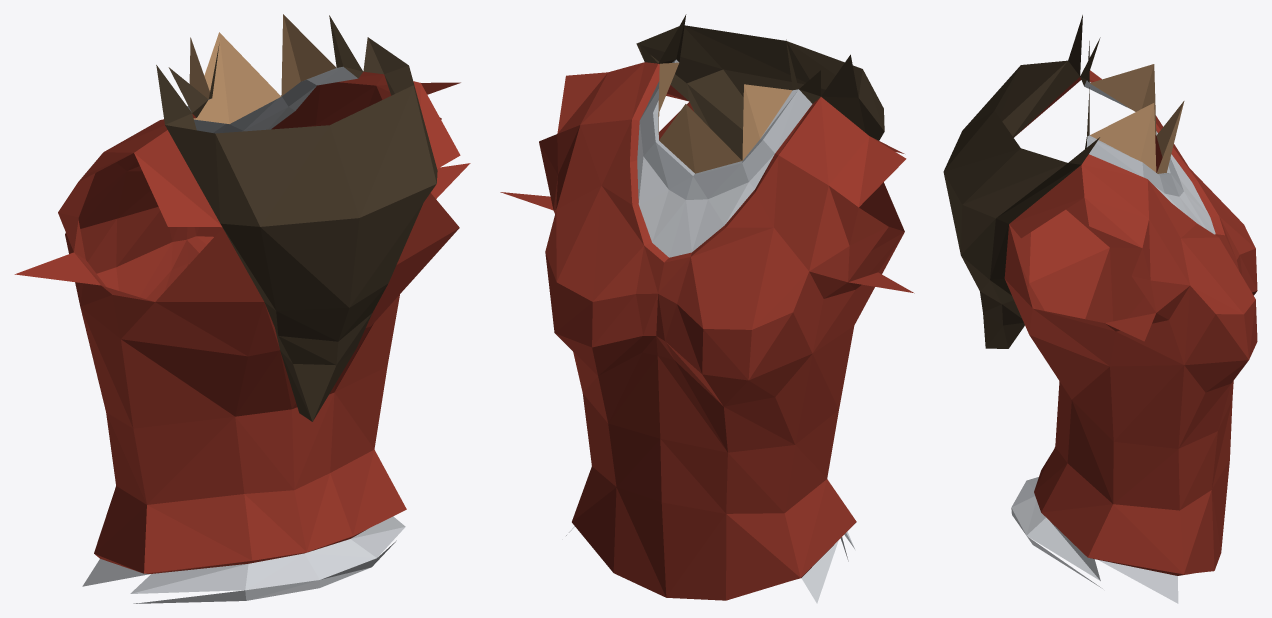
Rendered from Daughter_01_Torso_0_03_B.obj.
3 views of the same model, side by side, from view 1: azimuth 30°, elevation 25°; view 2: azimuth 150°, elevation 25°; view 3: azimuth 270°, elevation 25° (orthographic). The views are drawn at different scales.
Visible parts, largest first — view 1: Daughter_01_Torso_0_03_B; view 2: Daughter_01_Torso_0_03_B; view 3: Daughter_01_Torso_0_03_B.
Boxes of the visible parts, x1,y1,x2,y2 form: Daughter_01_Torso_0_03_B: (14,14,470,603); Daughter_01_Torso_0_03_B: (500,14,914,603); Daughter_01_Torso_0_03_B: (943,15,1257,603).
Size of the model in its own units: 0.5319 by 0.6365 by 0.3688.
Materials: 1 (1 with a texture image).
